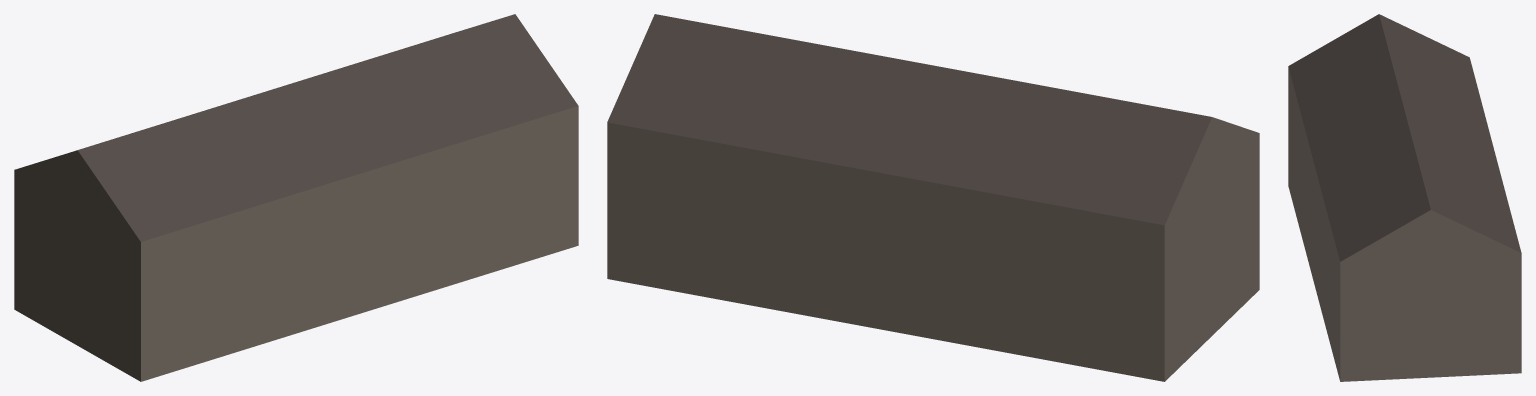
3 views of the same model, side by side, from view 1: azimuth 30°, elevation 25°; view 2: azimuth 150°, elevation 25°; view 3: azimuth 270°, elevation 25° (orthographic). The views are drawn at different scales.
Parts seen in each view (by area): view 1: HP-w859467778; view 2: HP-w859467778; view 3: HP-w859467778.
Part boxes in pixels (x1,y1,x2,y2): HP-w859467778: (14,14,578,381); HP-w859467778: (607,14,1259,381); HP-w859467778: (1288,14,1521,381).
Size of the model in its own units: 32.9 by 12.58 by 15.85.
